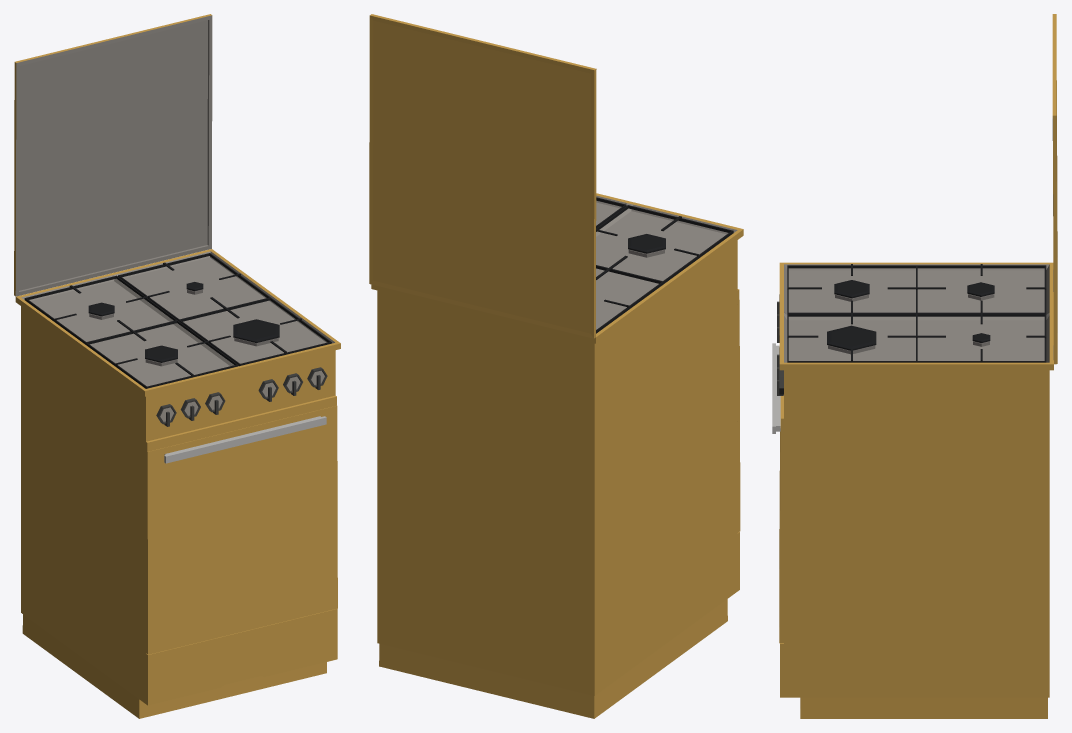
Rendered from kitchenstove_01_D.gltf.
The picture shows the model from 3 angles, left to right: view 1: azimuth 30°, elevation 25°; view 2: azimuth 150°, elevation 25°; view 3: azimuth 270°, elevation 25°; orthographic projection. The views are drawn at different scales.
Visible parts, largest first — view 1: kitchenstove_01_D.001, coverforgasstove_01_D, kitchenstove_01_D, pulloutshelfforgasstove_01_D; view 2: kitchenstove_01_D.001, coverforgasstove_01_D, kitchenstove_01_D; view 3: kitchenstove_01_D.001, coverforgasstove_01_D, kitchenstove_01_D.
Boxes of the visible parts, x1=… form: kitchenstove_01_D.001: x1=15, y1=249, x2=340, y2=718; coverforgasstove_01_D: x1=14, y1=14, x2=212, y2=296; kitchenstove_01_D: x1=145, y1=405, x2=337, y2=654; pulloutshelfforgasstove_01_D: x1=146, y1=608, x2=337, y2=705; kitchenstove_01_D.001: x1=371, y1=193, x2=743, y2=718; coverforgasstove_01_D: x1=369, y1=14, x2=596, y2=338; kitchenstove_01_D: x1=737, y1=300, x2=740, y2=532; kitchenstove_01_D.001: x1=779, y1=262, x2=1053, y2=718; coverforgasstove_01_D: x1=1052, y1=14, x2=1057, y2=364; kitchenstove_01_D: x1=772, y1=343, x2=783, y2=643.
Bounding box in the file's own units: 0.5166 × 1.43 × 0.6127.
1 material, 1 textured.
